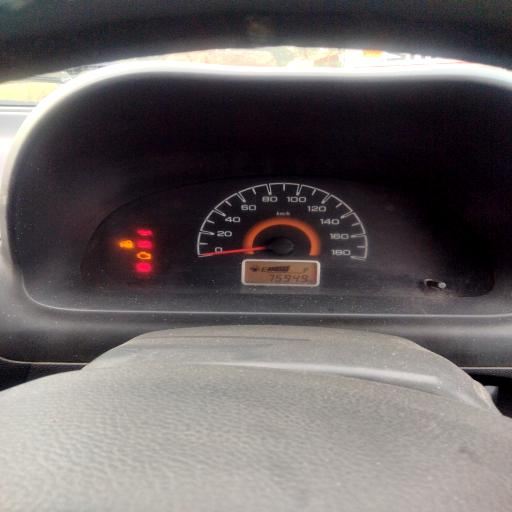car_closed: (119, 240, 133, 249)
check_engine: (136, 251, 151, 260)
oil: (138, 230, 152, 236)
vehicle_charging: (138, 240, 151, 248)
